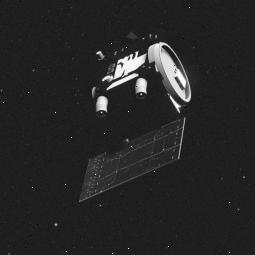proba_3_csc: (74, 29, 200, 204)
